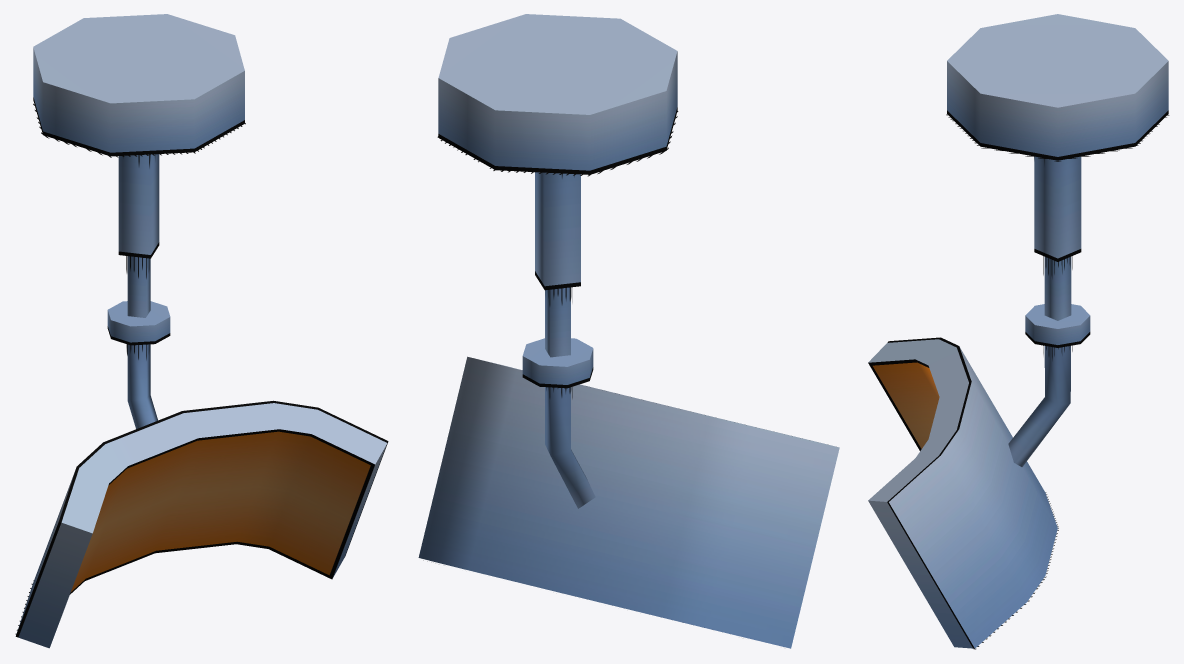
Rendered from sci-fi-antenna.glb.
The picture shows the model from 3 angles, left to right: view 1: azimuth 30°, elevation 25°; view 2: azimuth 150°, elevation 25°; view 3: azimuth 270°, elevation 25°; orthographic projection. The views are drawn at different scales.
Parts seen in each view (by area): view 1: SciFi_Antenna; view 2: SciFi_Antenna; view 3: SciFi_Antenna.
Boxes of the visible parts, box(x1,y1,x2,y2) form: SciFi_Antenna: box(15, 14, 388, 648); SciFi_Antenna: box(418, 14, 839, 648); SciFi_Antenna: box(868, 14, 1169, 649).
Size of the model in its own units: 0.9418 by 1.41 by 0.742.
2 materials, 2 textured.
